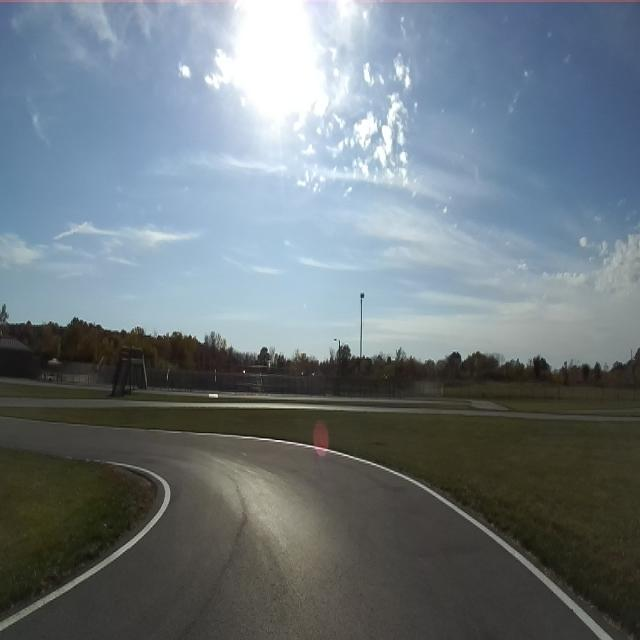white-line: (318, 447, 612, 639), (0, 461, 170, 632), (190, 433, 320, 450)
